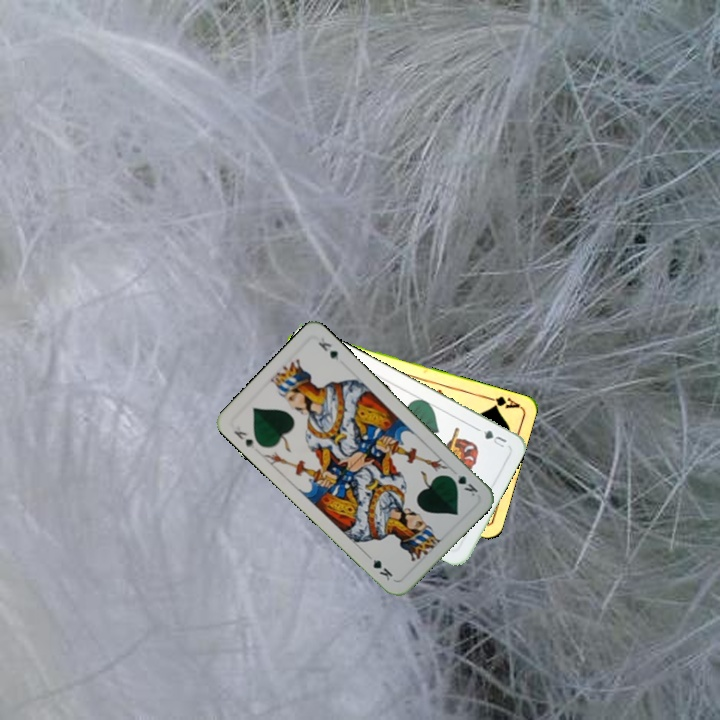GA: (482, 392, 522, 411)
GK: (445, 471, 480, 499), (229, 421, 258, 452)
GU: (473, 424, 509, 450)
